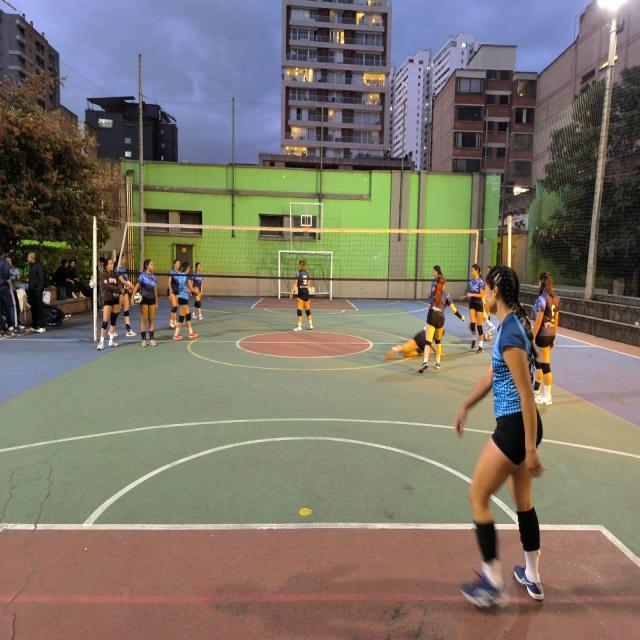volleyball: (134, 292, 142, 304), (484, 332, 492, 342)
